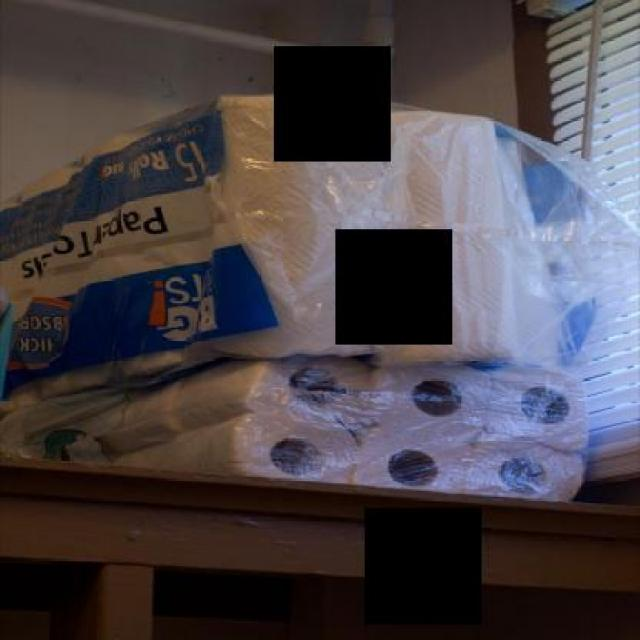plastic bag: (0, 80, 638, 403), (0, 354, 591, 501)
